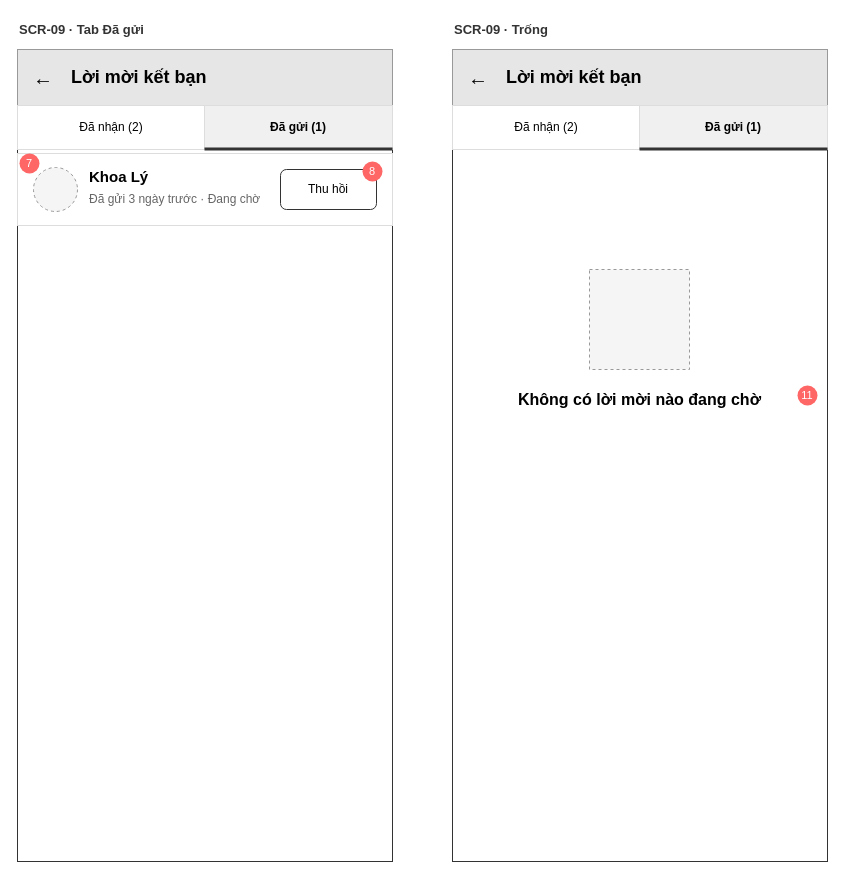
Some shapes in this 845 by 879 pixel diagram are drawn without their labels. The centre of each missing label's shape, as x and y in pixels:
"[Minh họa]" belongs at point (639, 319).
"Ảnh" belongs at point (55, 189).
